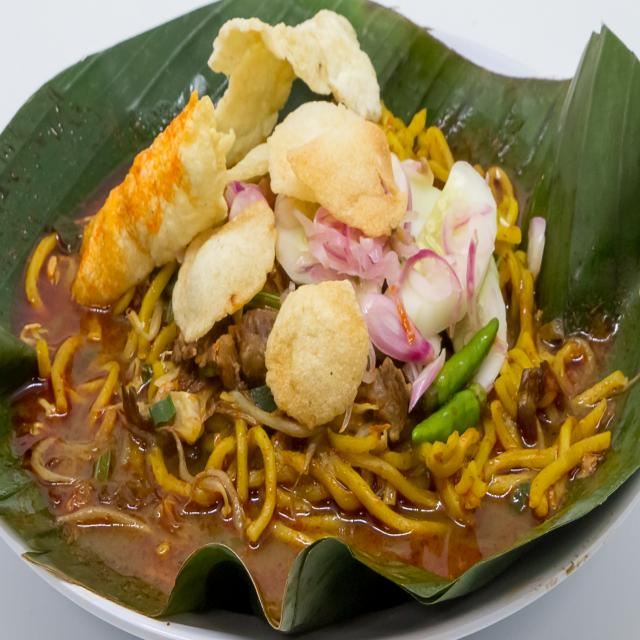Mie-Aceh: (31, 7, 624, 570)
